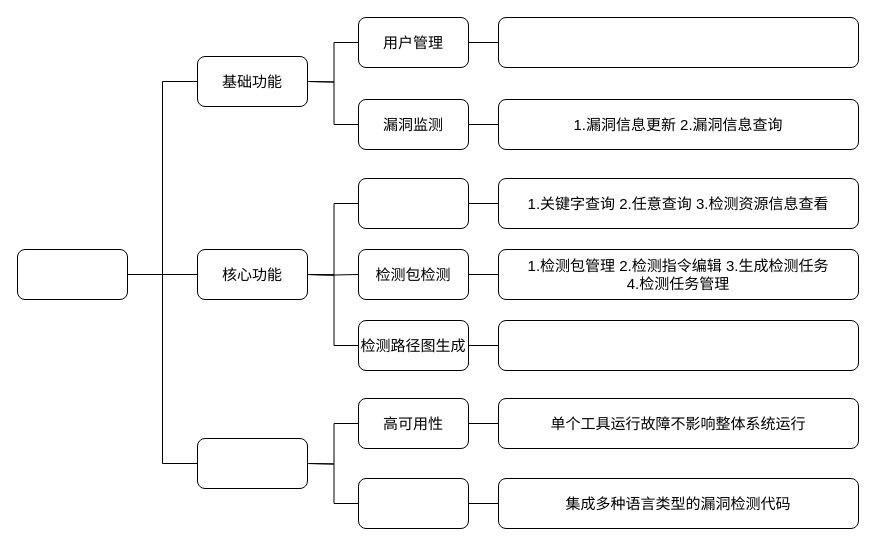
This 876x546 diagram has some shape labels left out. The box of each missing label's shape, as (x1, y1, x2, y2) in pixels:
1.标记ATT&CK矩阵 2.展示节点信息 3.检测路径图管理: (498, 320, 858, 370)
1.用户注册 2.用户信息 3.登录认证: (498, 16, 858, 68)
可扩展性: (358, 478, 468, 528)
基于Docker容器的漏洞检测系统: (16, 248, 128, 300)
检测资源管理: (358, 178, 468, 228)
非功能: (196, 438, 308, 488)
